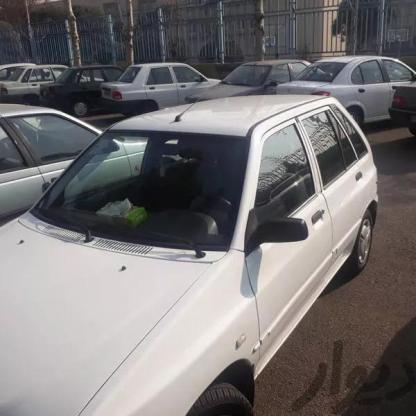Car: (0, 88, 387, 416), (0, 108, 161, 237), (86, 65, 228, 115), (185, 55, 312, 107), (303, 60, 416, 114), (0, 60, 54, 115), (45, 65, 119, 101)
